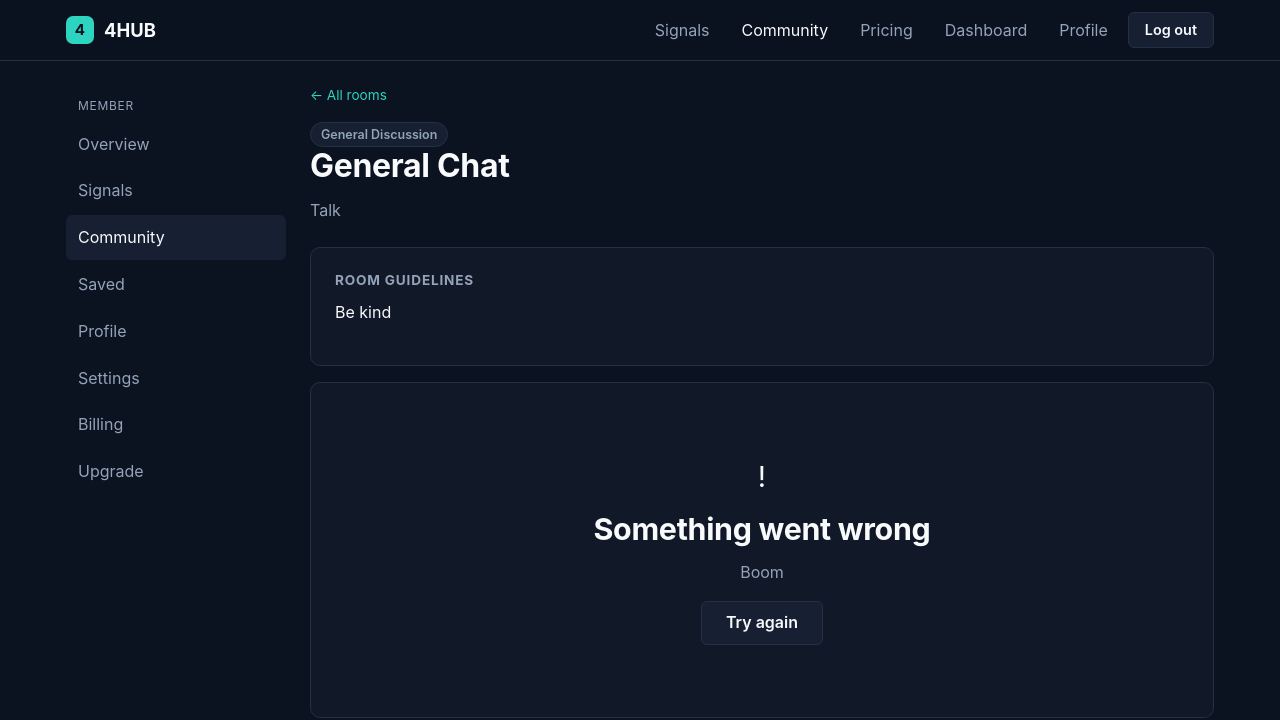
Scenario: chat access states › shows loading, then a retryable error state
Expected: the heading "Something went wrong" is shown, [594,511,930,548]
Click the button "Try again" at (762, 623), box [701,601,823,645]
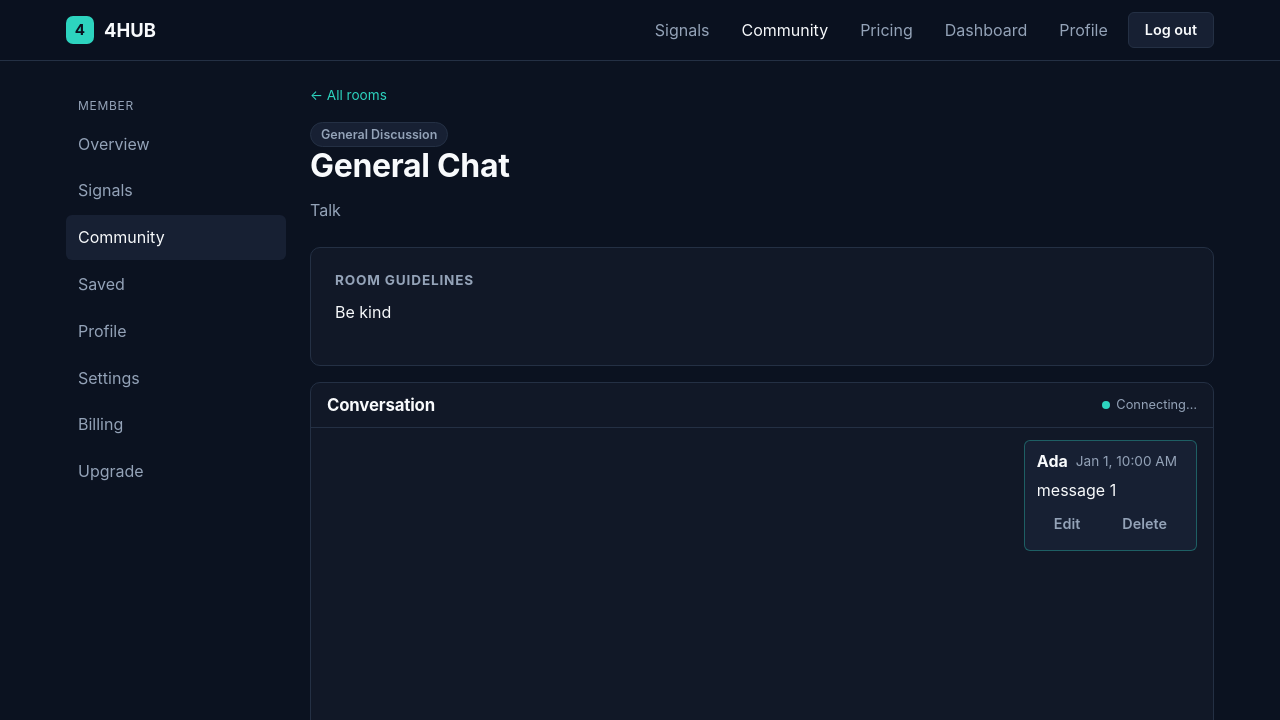
Expected: the text "message 1" is shown, [1037,480,1116,500]
